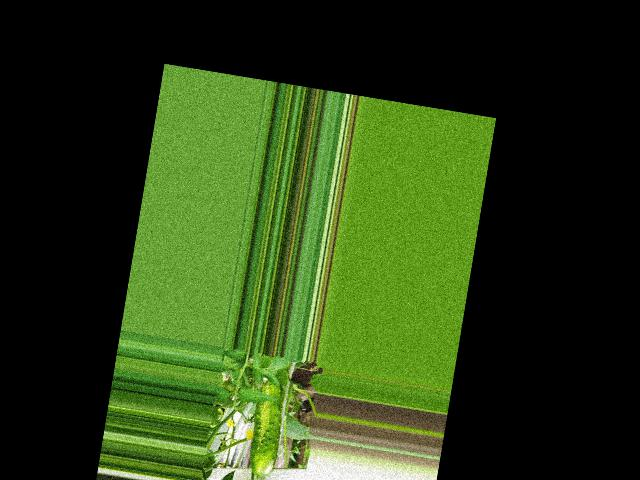cucumber: (246, 380, 288, 479)
